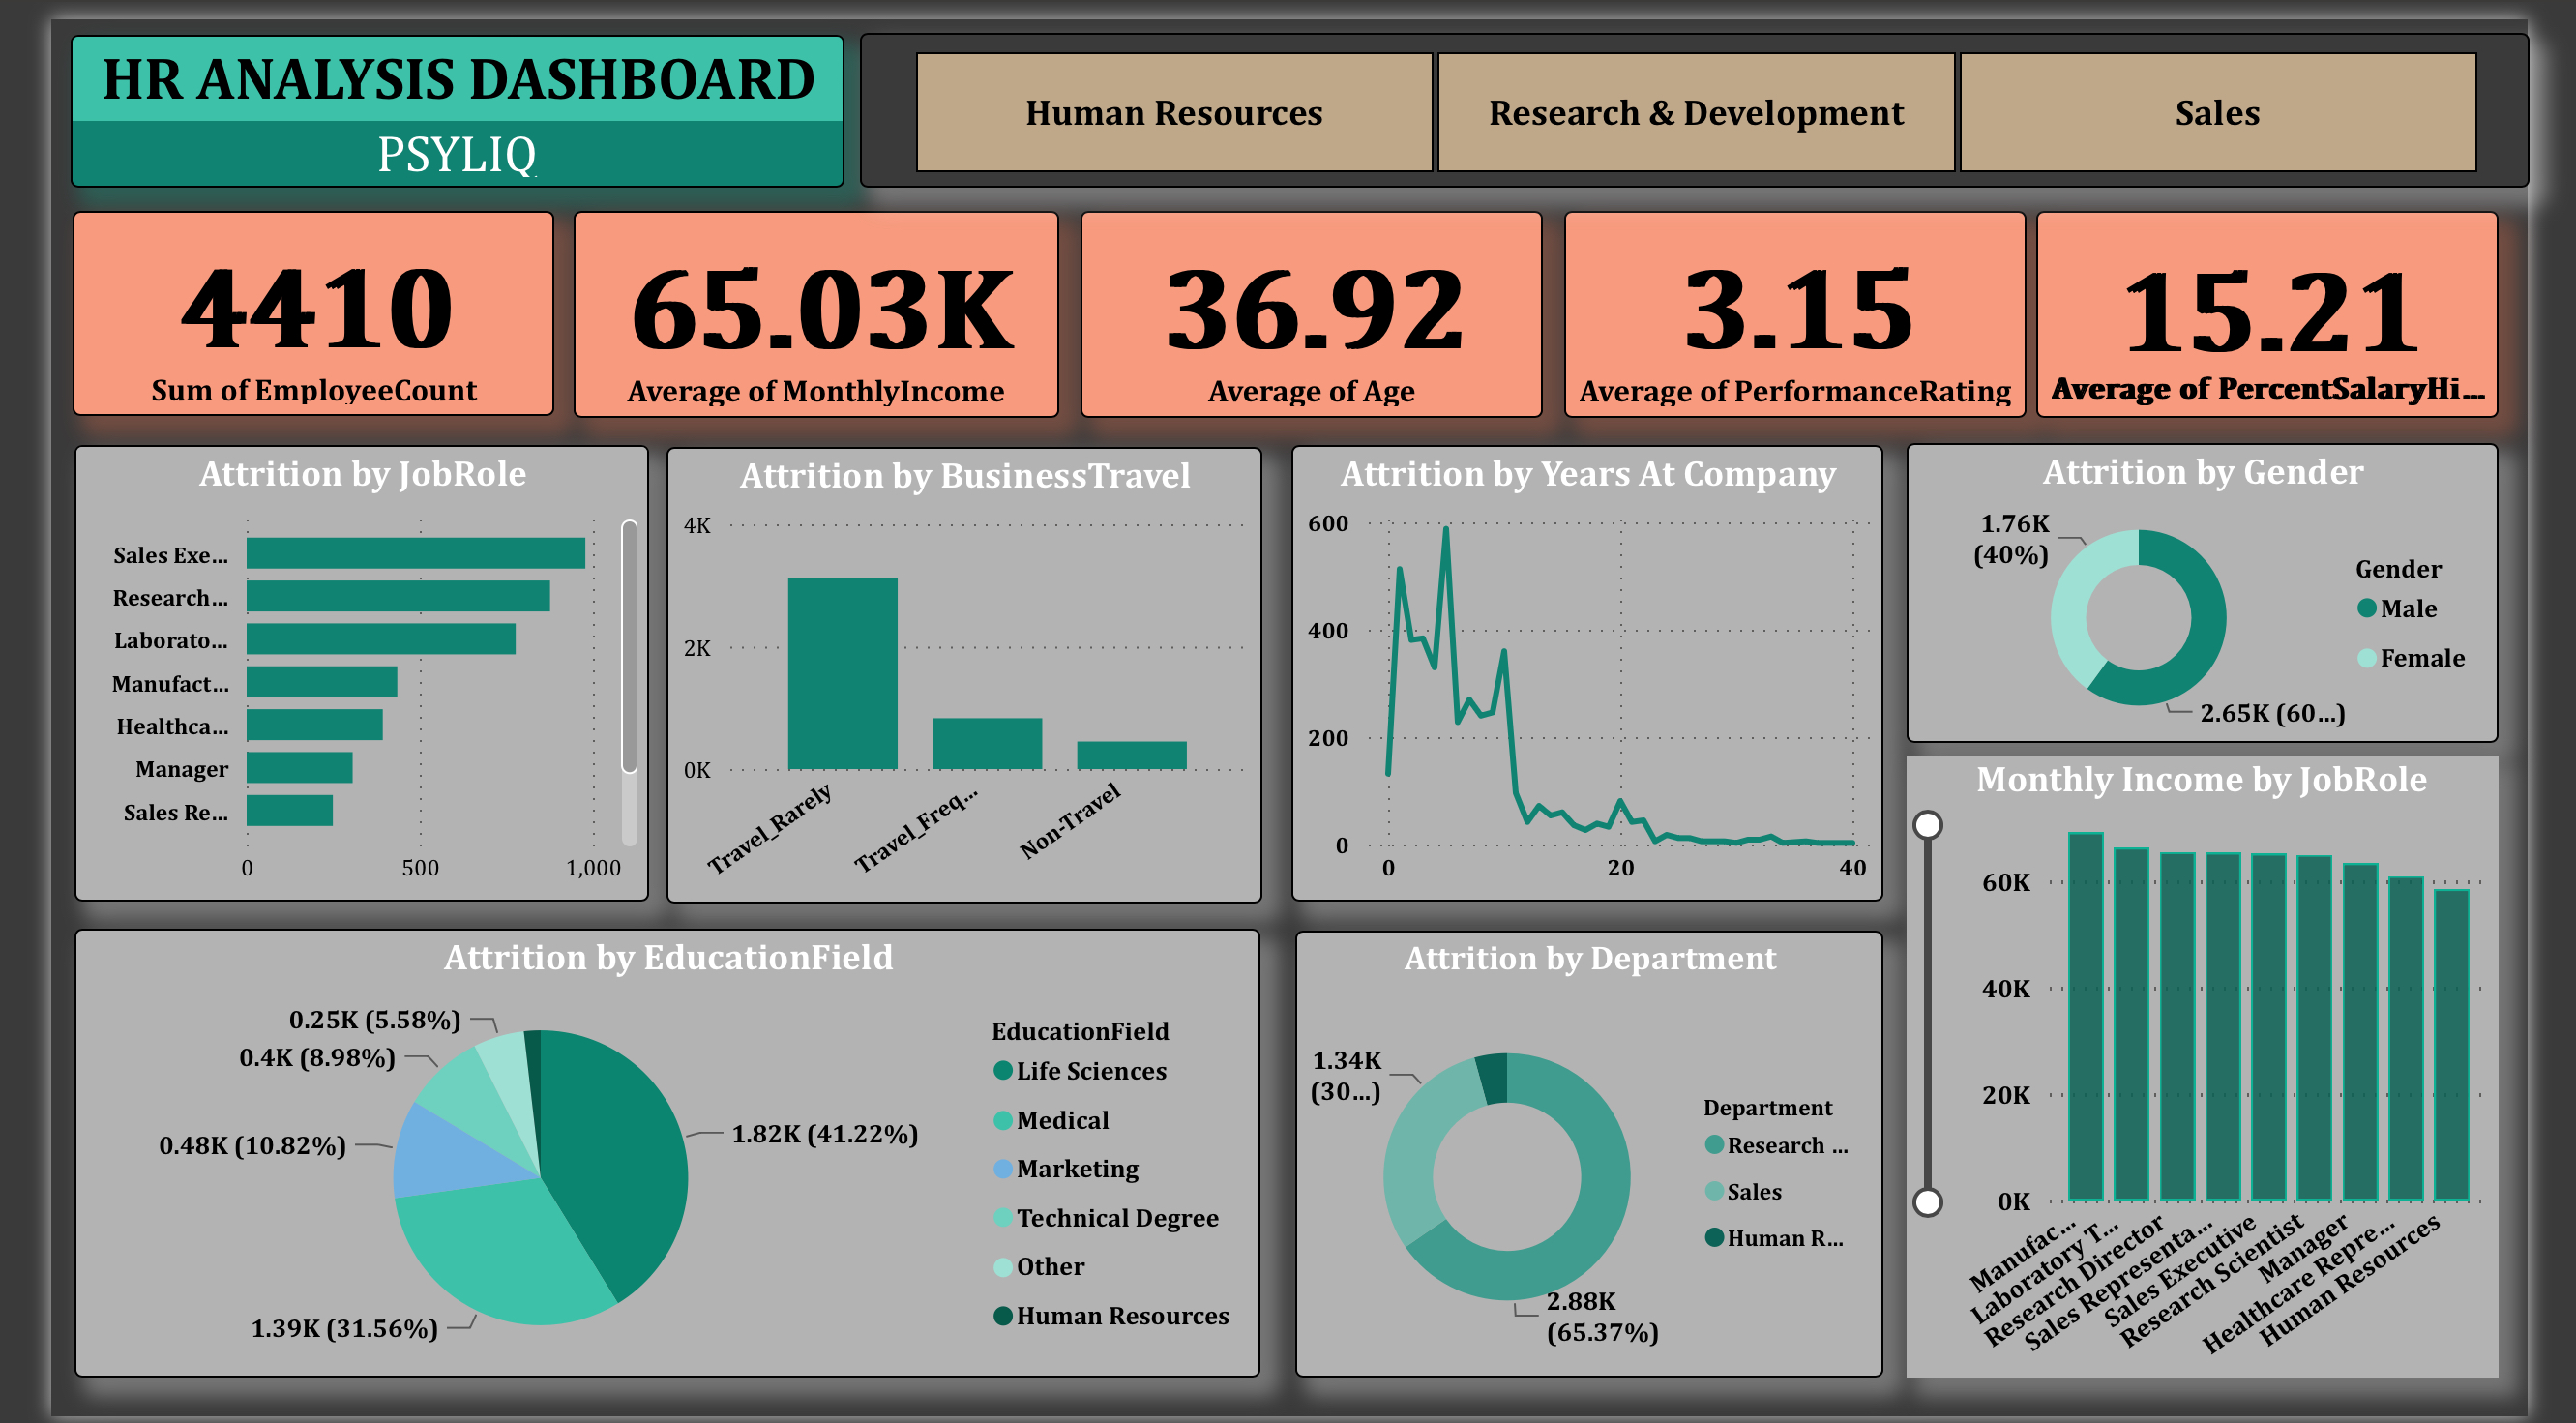

What the dashboard file says about the page in this screenshot:
{"tool":"powerbi","page":{"name":"HR ANALYSIS DASHDOARD","canvas":[1280,720],"ordinal":0},"visuals":[{"type":"textbox","title":"HR ANALYSIS DASHBOARD","box":[10.3,7.7,399.3,79.6],"z":0},{"type":"card","fields":{"Values":["Sum(general_data.EmployeeCount)"]},"box":[11,98.8,249.4,106.6],"z":1000},{"type":"card","fields":{"Values":["Avg(general_data.MonthlyIncome)"]},"box":[270.1,98.8,251.1,107.1],"z":2000},{"type":"card","fields":{"Values":["Avg(general_data.Age)"]},"box":[532,98.8,239.2,107.1],"z":3000},{"type":"card","fields":{"Values":["Avg(manager_survey_data.PerformanceRating)"]},"box":[781.9,98.8,239.2,107.1],"z":4000},{"type":"card","fields":{"Values":["Avg(general_data.PercentSalaryHike)"]},"box":[1025.9,98.8,239.2,107.1],"z":5000},{"type":"clusteredBarChart","title":"Attrition by JobRole","fields":{"Category":["general_data.JobRole"],"Y":["CountNonNull(general_data.Attrition)"]},"box":[11.6,219.5,297.9,236.2],"z":6000},{"type":"clusteredColumnChart","title":"Attrition by BusinessTravel","fields":{"Y":["CountNonNull(general_data.Attrition)"],"Category":["general_data.BusinessTravel"]},"box":[318.4,219.6,307.4,236.8],"z":7000},{"type":"lineChart","title":"Attrition by Years At Company","fields":{"Category":["general_data.YearsAtCompany"],"Y":["CountNonNull(general_data.Attrition)"]},"box":[641.4,219.6,305.8,236.8],"z":8000},{"type":"donutChart","title":"Attrition by Gender","fields":{"Y":["CountNonNull(general_data.Attrition)"],"Category":["general_data.Gender"]},"box":[959.2,219,305.9,154.7],"z":9000},{"type":"slicer","fields":{"Values":["general_data.Department"]},"box":[417.7,7.1,862.8,79.7],"z":10000},{"type":"pieChart","title":"Attrition by EducationField","fields":{"Y":["CountNonNull(general_data.Attrition)"],"Category":["general_data.EducationField"]},"box":[11.6,469.9,613.7,232.4],"z":11000},{"type":"donutChart","title":"Attrition by Department","fields":{"Y":["CountNonNull(general_data.Attrition)"],"Category":["general_data.Department"]},"box":[643.2,471.2,304.3,231.1],"z":12000},{"type":"clusteredColumnChart","title":"Monthly Income by JobRole","fields":{"Category":["general_data.JobRole"],"Y":["Avg(general_data.MonthlyIncome)"]},"box":[959.2,380.8,305.9,321.3],"z":13000}]}

Visuals, with their boxes in screenshot pixels (x1, y1, x2, y2), scaled from the page's 1280x720 canvas onto the 2576x1423 screenshot:
"HR ANALYSIS DASHBOARD" textbox: (x1=20, y1=15, x2=824, y2=172)
card - Sum(general_data.EmployeeCount): (x1=22, y1=195, x2=524, y2=406)
card - Avg(general_data.MonthlyIncome): (x1=544, y1=195, x2=1049, y2=407)
card - Avg(general_data.Age): (x1=1071, y1=195, x2=1552, y2=407)
card - Avg(manager_survey_data.PerformanceRating): (x1=1574, y1=195, x2=2055, y2=407)
card - Avg(general_data.PercentSalaryHike): (x1=2064, y1=195, x2=2546, y2=407)
"Attrition by JobRole" clusteredBarChart: (x1=23, y1=433, x2=623, y2=901)
"Attrition by BusinessTravel" clusteredColumnChart: (x1=640, y1=434, x2=1259, y2=902)
"Attrition by Years At Company" lineChart: (x1=1290, y1=434, x2=1907, y2=902)
"Attrition by Gender" donutChart: (x1=1931, y1=432, x2=2546, y2=738)
slicer - general_data.Department: (x1=841, y1=15, x2=2575, y2=171)
"Attrition by EducationField" pieChart: (x1=23, y1=929, x2=1258, y2=1388)
"Attrition by Department" donutChart: (x1=1294, y1=932, x2=1907, y2=1388)
"Monthly Income by JobRole" clusteredColumnChart: (x1=1931, y1=753, x2=2546, y2=1387)
